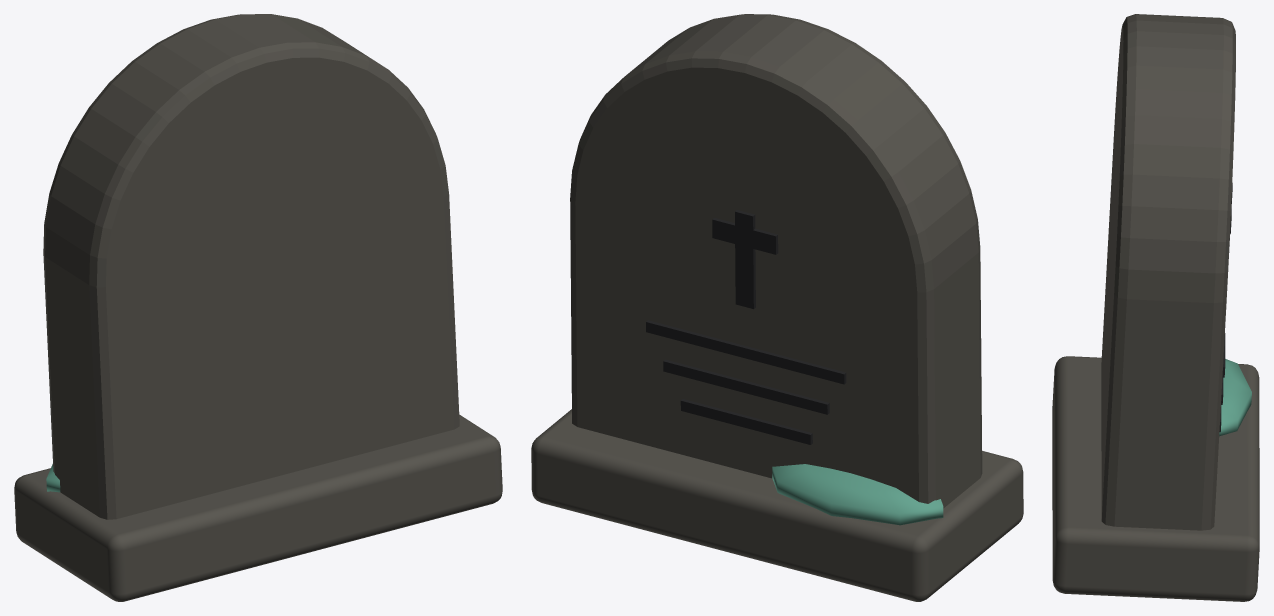
The model's file is TOMBSTONE.glb.
3 renders of one model, left to right at view 1: azimuth 30°, elevation 25°; view 2: azimuth 150°, elevation 25°; view 3: azimuth 270°, elevation 25°, orthographic. The views are drawn at different scales.
Visible parts, largest first — view 1: concreteProp_0; view 2: concreteProp_0, tread_1, copper_2; view 3: concreteProp_0, copper_2, tread_1.
Boxes of the visible parts, x1=… form: concreteProp_0: x1=14, y1=14, x2=502, y2=601; concreteProp_0: x1=531, y1=14, x2=1023, y2=601; tread_1: x1=646, y1=210, x2=846, y2=444; copper_2: x1=772, y1=464, x2=943, y2=525; concreteProp_0: x1=1052, y1=14, x2=1259, y2=601; copper_2: x1=1219, y1=359, x2=1251, y2=436; tread_1: x1=1219, y1=183, x2=1232, y2=432.
Bounding box in the file's own units: 0.8716 × 1.04 × 0.4048.
